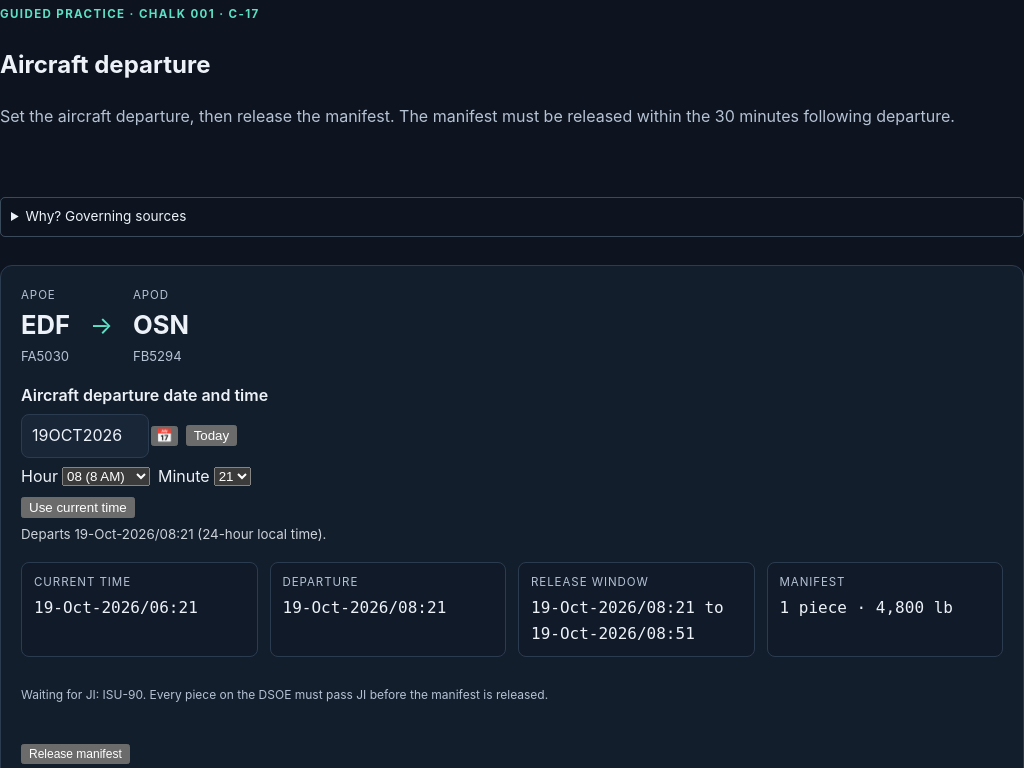
Test: the manifest cannot be released before every piece passes JI
Check: the text "Waiting for JI: ISU-90" is shown, box [21,687,548,702]
Click the button "Release manifest": click(75, 754) [21,744,130,764]
(page scrolled)
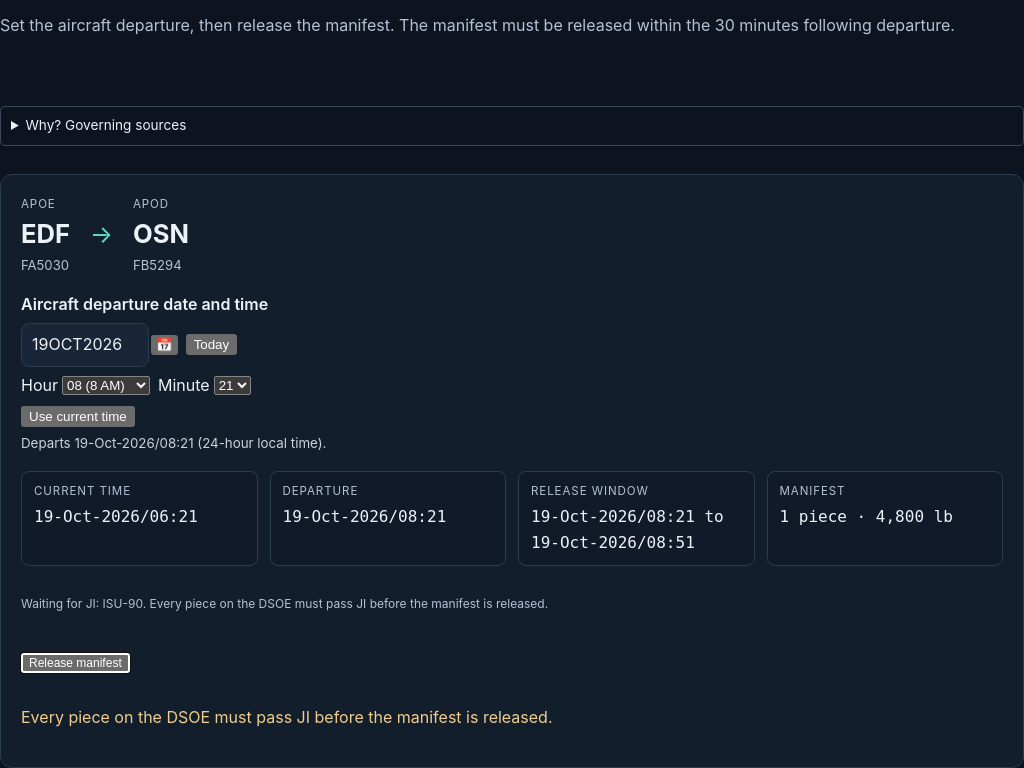
Check: the text "Every piece on the DSOE must pass JI before the manifest is released." is shown, box [21,707,552,727]
